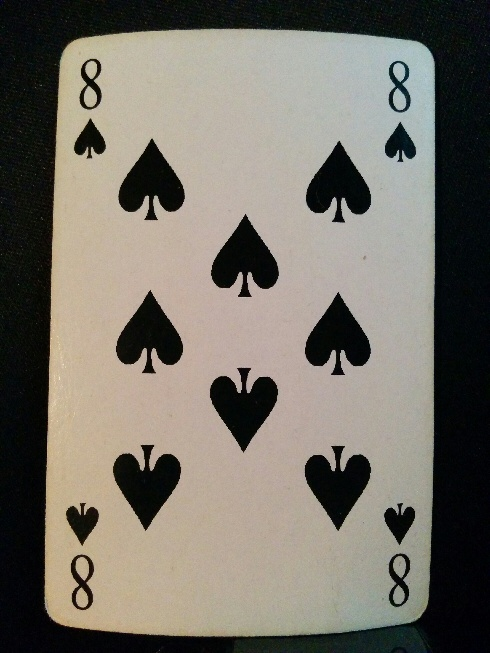S8: (379, 494, 420, 612), (62, 496, 103, 613), (383, 56, 422, 170), (74, 53, 111, 168)
